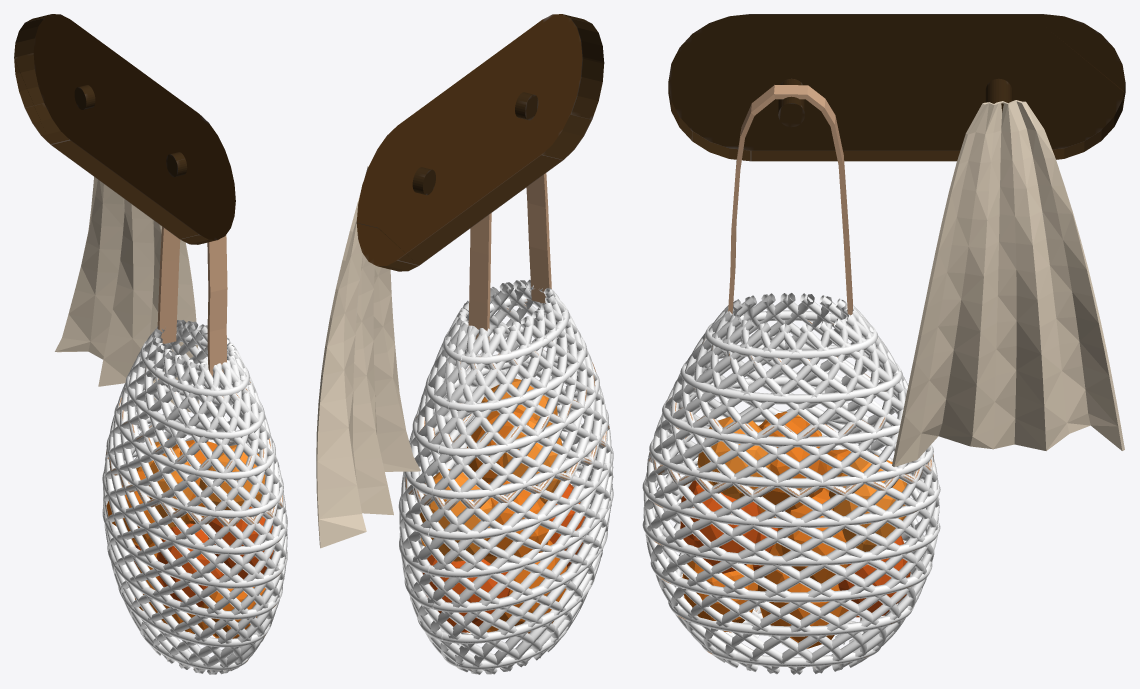
Rendered from Perchero.fbx.
The picture shows the model from 3 angles, left to right: view 1: azimuth 30°, elevation 25°; view 2: azimuth 150°, elevation 25°; view 3: azimuth 270°, elevation 25°; orthographic projection. The views are drawn at different scales.
Visible parts, largest first — view 1: Red diagonal 0_01, PERCHERO, Trapo_LowPoly, Plane, Mandarina low poly 12, Mandarina low poly 07, Mandarina low poly 09, Mandarina low poly 14, Mandarina low poly 04, Mandarina low poly 13, Mandarina low poly 08; view 2: Red diagonal 0_01, PERCHERO, Trapo_LowPoly, Plane, Mandarina low poly 13, Mandarina low poly 10, Mandarina low poly 03, Mandarina low poly 14, Mandarina low poly 08, Mandarina low poly 11; view 3: Red diagonal 0_01, PERCHERO, Trapo_LowPoly, Plane, Mandarina low poly 08, Mandarina low poly 07, Mandarina low poly 10, Mandarina low poly 05, Mandarina low poly 09, Mandarina low poly 06, Mandarina low poly 04, Mandarina low poly 03.
Boxes of the visible parts, x1,y1,x2,y2 form: Red diagonal 0_01: (102,320,287,674); PERCHERO: (14,14,235,244); Trapo_LowPoly: (55,177,199,412); Plane: (157,226,227,376); Mandarina low poly 12: (156,523,223,607); Mandarina low poly 07: (208,507,273,579); Mandarina low poly 09: (199,445,265,509); Mandarina low poly 14: (149,448,193,528); Mandarina low poly 04: (201,587,265,638); Mandarina low poly 13: (106,469,154,545); Mandarina low poly 08: (172,440,217,524); Red diagonal 0_01: (398,279,613,674); PERCHERO: (356,14,604,271); Trapo_LowPoly: (316,166,420,548); Plane: (468,173,551,349); Mandarina low poly 13: (483,480,549,571); Mandarina low poly 10: (419,469,492,561); Mandarina low poly 03: (422,554,510,632); Mandarina low poly 14: (502,420,566,503); Mandarina low poly 08: (467,407,537,482); Mandarina low poly 11: (499,540,567,633); Red diagonal 0_01: (642,293,940,674); PERCHERO: (668,14,1125,161); Trapo_LowPoly: (892,100,1124,466); Plane: (728,85,852,315); Mandarina low poly 08: (758,413,827,517); Mandarina low poly 07: (680,480,761,573); Mandarina low poly 10: (829,454,906,551); Mandarina low poly 05: (757,543,847,648); Mandarina low poly 09: (697,416,770,499); Mandarina low poly 06: (775,488,848,583); Mandarina low poly 04: (682,560,757,632); Mandarina low poly 03: (838,535,910,617).
Size of the model in its own units: 31.36 by 123 by 86.05.
8 materials, 5 textured.
